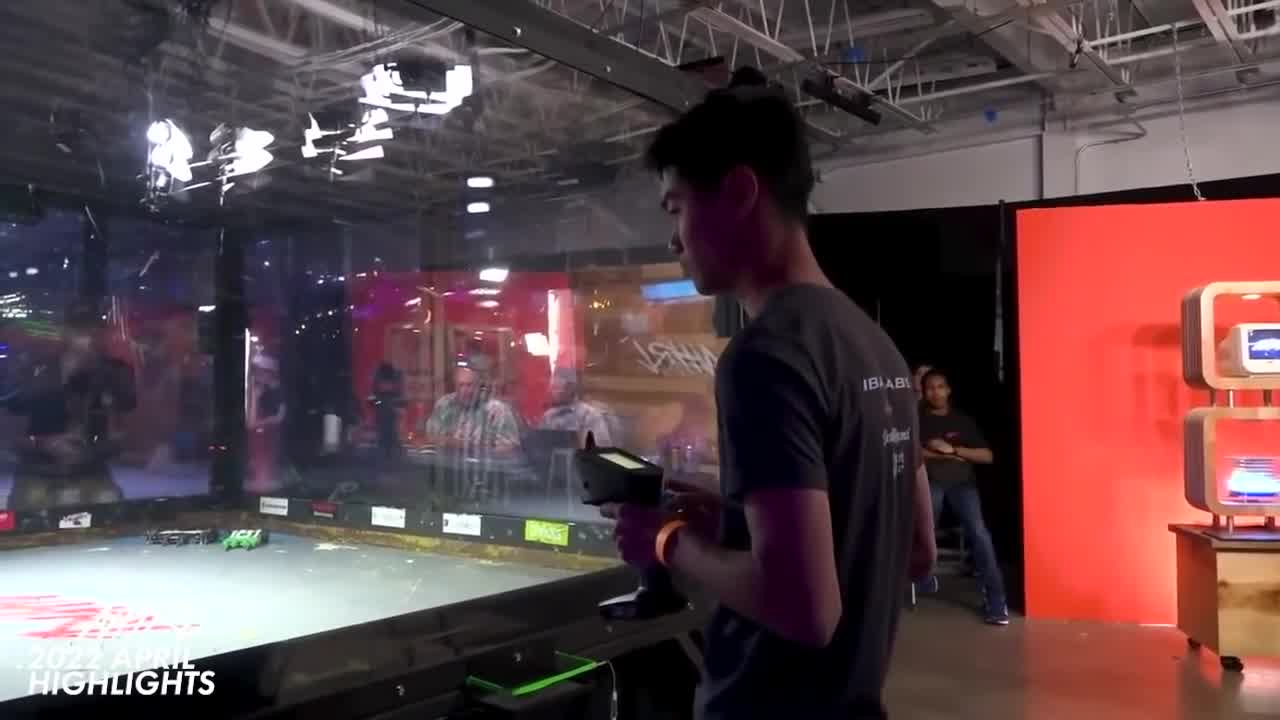combatbot: (149, 522, 271, 552), (220, 525, 270, 553)
